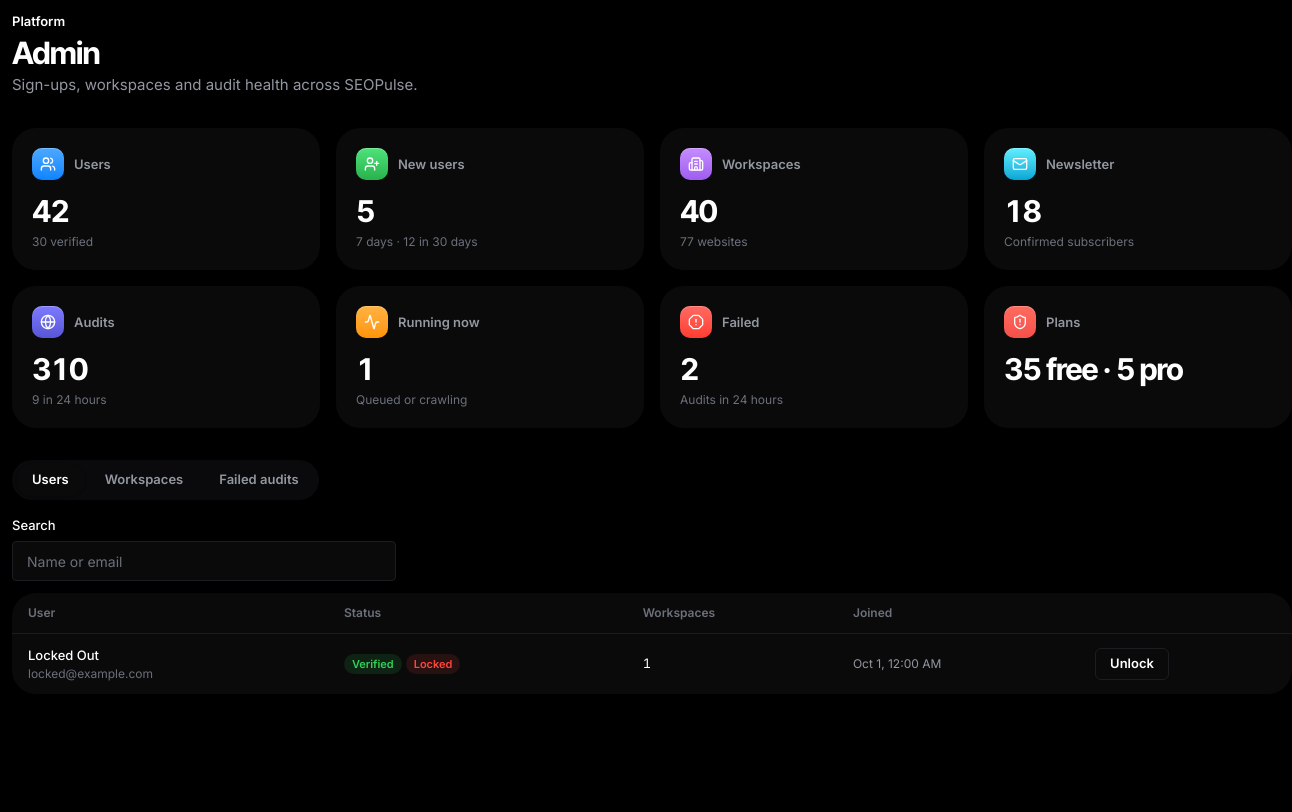
AdminPage › shows platform stats and lets admins unlock accounts
The width and height of the screenshot is (1292, 812).
Expected: the text "42" is shown, left=32, top=193, right=69, bottom=229
Expected: the text "35 free · 5 pro" is shown, left=1004, top=351, right=1183, bottom=387
Click the button "Unlock". click: (1132, 664)
box: left=1095, top=648, right=1169, bottom=680
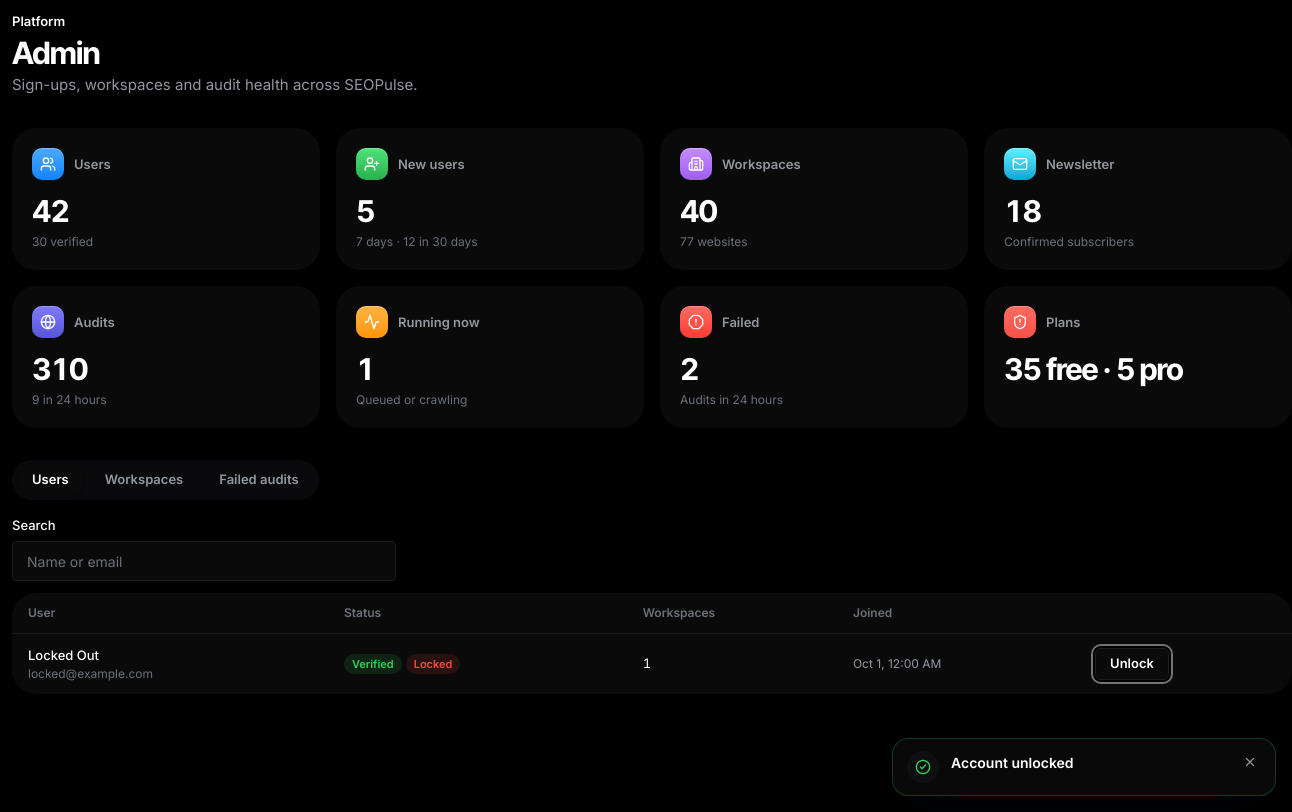
Now the text "Account unlocked" is shown, box left=951, top=754, right=1074, bottom=771
